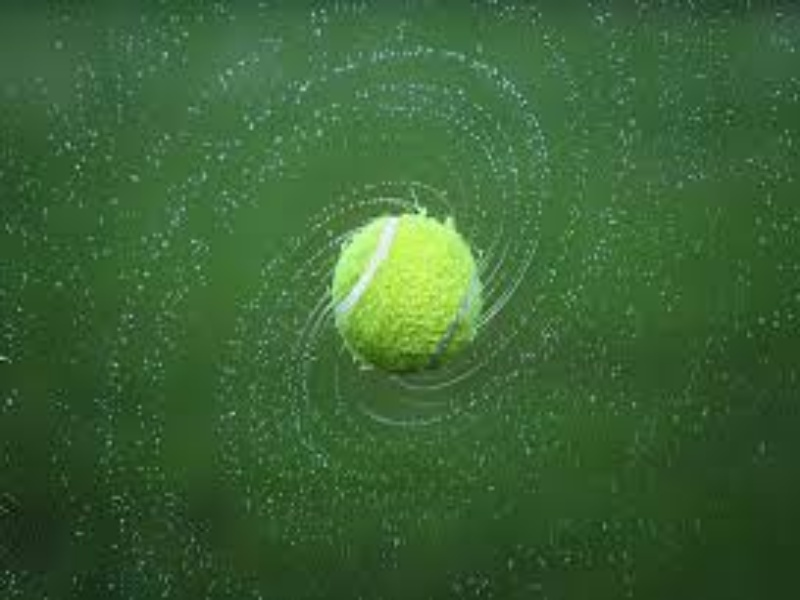tennis ball: (317, 211, 507, 400)
